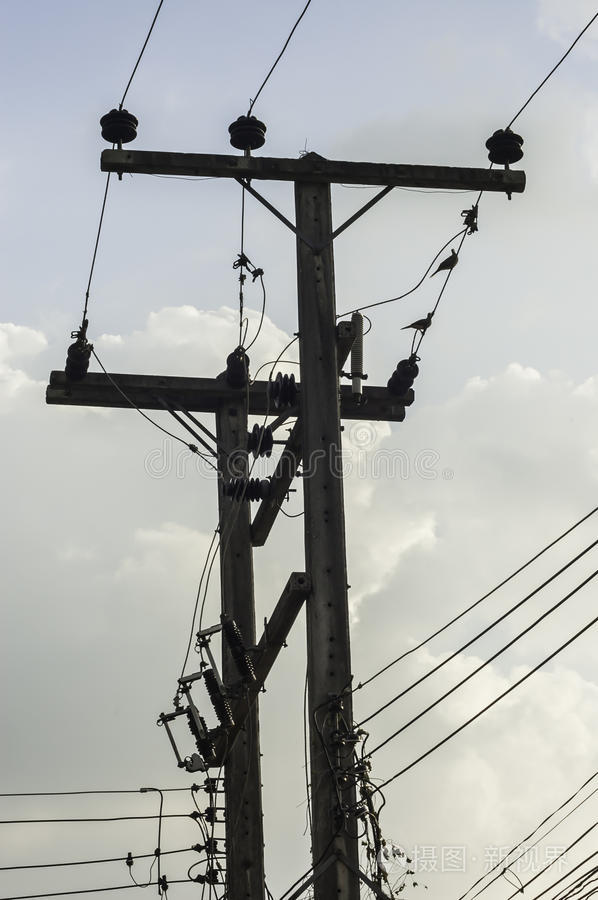insulator: (97, 108, 146, 143), (229, 114, 266, 152), (486, 131, 527, 164)
